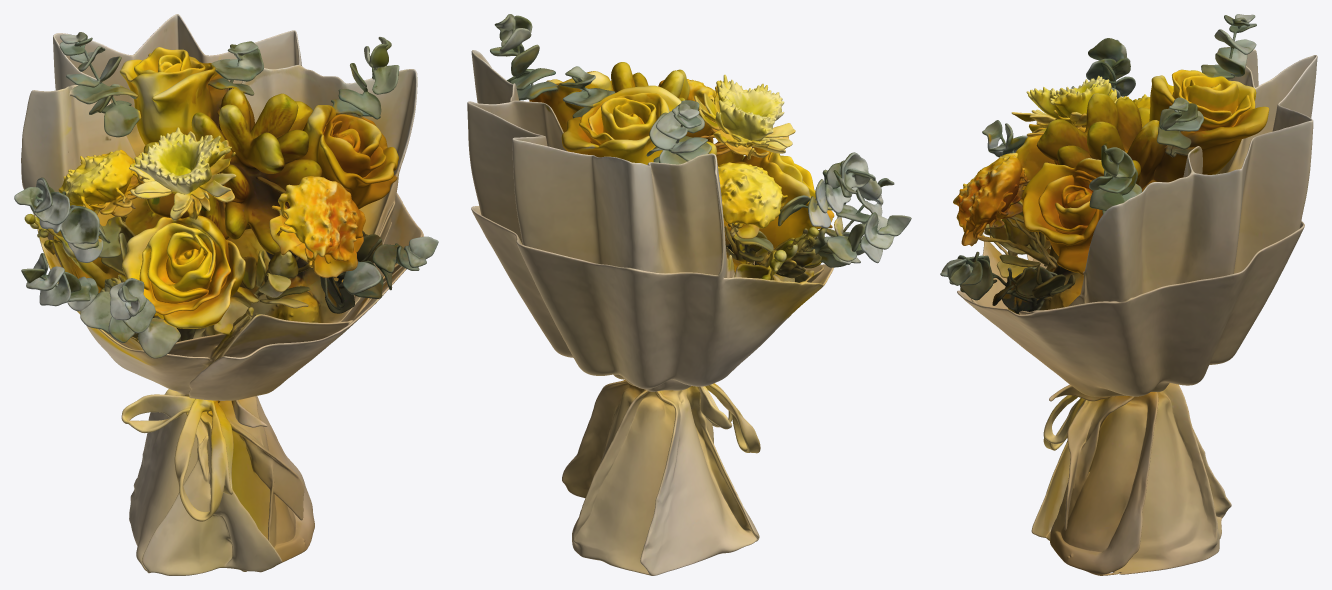
The picture shows the model from 3 angles, left to right: view 1: azimuth 30°, elevation 25°; view 2: azimuth 150°, elevation 25°; view 3: azimuth 270°, elevation 25°; orthographic projection.
Parts seen in each view (by area): view 1: tripo_node_3dad3ccb-c710-4c73-954b-34b108727597; view 2: tripo_node_3dad3ccb-c710-4c73-954b-34b108727597; view 3: tripo_node_3dad3ccb-c710-4c73-954b-34b108727597.
Boxes of the visible parts, x1,y1,x2,y2 form: tripo_node_3dad3ccb-c710-4c73-954b-34b108727597: (14, 14, 438, 575); tripo_node_3dad3ccb-c710-4c73-954b-34b108727597: (467, 14, 911, 575); tripo_node_3dad3ccb-c710-4c73-954b-34b108727597: (940, 14, 1317, 575).
Size of the model in its own units: 0.8932 by 1 by 0.7088.
1 material, 1 textured.
